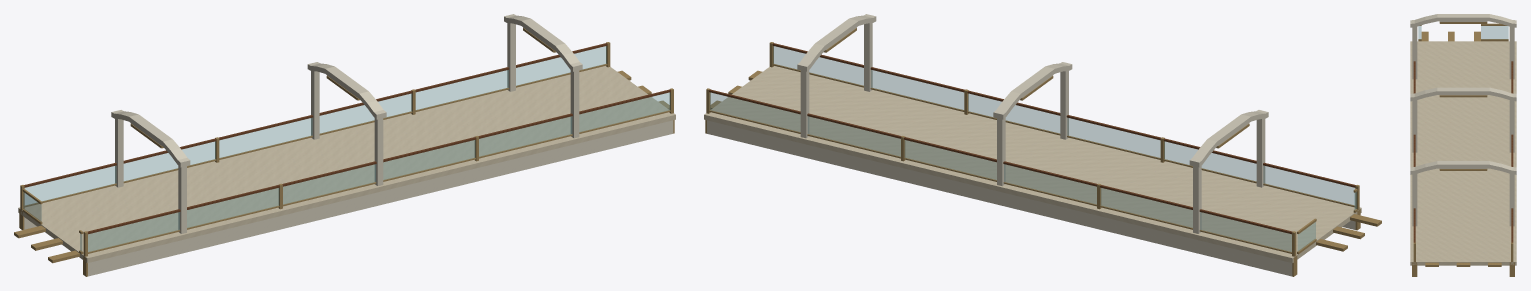
Rendered from AST-TRM-G4-034_D11_secondary_approach_r002.glb.
3 renders of one model, left to right at view 1: azimuth 30°, elevation 25°; view 2: azimuth 150°, elevation 25°; view 3: azimuth 270°, elevation 25°, orthographic. The views are drawn at different scales.
Visible parts, largest first — view 1: D11_SECONDARY_D12_MissingOnly_MainBridgeFloor, D11_SECONDARY_D12__TB_AFT_SIDE_BEAM, D11_SECONDARY_D12__TB_FORE_GLASS_2, D11_SECONDARY_D12__TB_AFT_GLASS_3, D11_SECONDARY_D12__TB_FORE_GLASS_4, D11_SECONDARY_D12__TB_AFT_GLASS_2, D11_SECONDARY_D12__TB_AFT_GLASS_4, D11_SECONDARY_D12__TB_AFT_GLASS_0, D11_SECONDARY_D12__TB_AFT_GLASS_1, D11_SECONDARY_D12__TB_AFT_GLASS_5, D11_SECONDARY_D12__TB_FORE_GLASS_0, D11_SECONDARY_D12__TB_FORE_GLASS_1 (+11 smaller); view 2: D11_SECONDARY_D12_MissingOnly_MainBridgeFloor, D11_SECONDARY_D12__TB_FORE_SIDE_BEAM, D11_SECONDARY_D12__TB_AFT_GLASS_2, D11_SECONDARY_D12__TB_AFT_GLASS_4, D11_SECONDARY_D12__TB_FORE_GLASS_4, D11_SECONDARY_D12__TB_FORE_GLASS_2, D11_SECONDARY_D12__TB_FORE_GLASS_3, D11_SECONDARY_D12__TB_FORE_GLASS_1, D11_SECONDARY_D12__TB_FORE_GLASS_0, D11_SECONDARY_D12__TB_AFT_GLASS_0, D11_SECONDARY_D12__TB_FORE_GLASS_5, D11_SECONDARY_D12__TB_AFT_GLASS_1 (+11 smaller); view 3: D11_SECONDARY_D12_MissingOnly_MainBridgeFloor, D11_SECONDARY_D12__TB_VAULT_1, D11_SECONDARY_D12__TB_VAULT_0, D11_SECONDARY_D12__TB_VAULT_2, D11_SECONDARY_ApertureReturn_SOUTH_Glass, D11_SECONDARY_D12__TB_AFT_RIB_PIER_0, D11_SECONDARY_D12__TB_AFT_RIB_PIER_2, D11_SECONDARY_D12__TB_FORE_RIB_PIER_0, D11_SECONDARY_D12__TB_FORE_RIB_PIER_2, D11_SECONDARY_D12__TB_AFT_RIB_PIER_1, D11_SECONDARY_D12__TB_FORE_RIB_PIER_1, D11_SECONDARY_D12__TB_COFF_1_R_SIDE (+12 smaller).
Part boxes in pixels (x1=…): D11_SECONDARY_D12_MissingOnly_MainBridgeFloor: x1=18, y1=66, x2=675, y2=262; D11_SECONDARY_D12__TB_AFT_SIDE_BEAM: x1=88, y1=120, x2=673, y2=276; D11_SECONDARY_D12__TB_FORE_GLASS_2: x1=219, y1=118, x2=312, y2=157; D11_SECONDARY_D12__TB_AFT_GLASS_3: x1=383, y1=140, x2=475, y2=179; D11_SECONDARY_D12__TB_FORE_GLASS_4: x1=416, y1=70, x2=508, y2=110; D11_SECONDARY_D12__TB_AFT_GLASS_2: x1=283, y1=164, x2=375, y2=204; D11_SECONDARY_D12__TB_AFT_GLASS_4: x1=479, y1=116, x2=571, y2=156; D11_SECONDARY_D12__TB_AFT_GLASS_0: x1=88, y1=212, x2=179, y2=251; D11_SECONDARY_D12__TB_AFT_GLASS_1: x1=187, y1=188, x2=278, y2=227; D11_SECONDARY_D12__TB_AFT_GLASS_5: x1=579, y1=92, x2=669, y2=131; D11_SECONDARY_D12__TB_FORE_GLASS_0: x1=25, y1=166, x2=116, y2=205; D11_SECONDARY_D12__TB_FORE_GLASS_1: x1=124, y1=141, x2=215, y2=181; D11_SECONDARY_D12_MissingOnly_MainBridgeFloor: x1=704, y1=66, x2=1361, y2=262; D11_SECONDARY_D12__TB_FORE_SIDE_BEAM: x1=707, y1=120, x2=1292, y2=276; D11_SECONDARY_D12__TB_AFT_GLASS_2: x1=1067, y1=118, x2=1160, y2=157; D11_SECONDARY_D12__TB_AFT_GLASS_4: x1=871, y1=70, x2=963, y2=110; D11_SECONDARY_D12__TB_FORE_GLASS_4: x1=808, y1=116, x2=900, y2=156; D11_SECONDARY_D12__TB_FORE_GLASS_2: x1=1004, y1=164, x2=1096, y2=204; D11_SECONDARY_D12__TB_FORE_GLASS_3: x1=904, y1=140, x2=996, y2=179; D11_SECONDARY_D12__TB_FORE_GLASS_1: x1=1101, y1=188, x2=1192, y2=227; D11_SECONDARY_D12__TB_FORE_GLASS_0: x1=1200, y1=212, x2=1291, y2=251; D11_SECONDARY_D12__TB_AFT_GLASS_0: x1=1263, y1=166, x2=1354, y2=205; D11_SECONDARY_D12__TB_FORE_GLASS_5: x1=710, y1=92, x2=800, y2=131; D11_SECONDARY_D12__TB_AFT_GLASS_1: x1=1164, y1=141, x2=1256, y2=181; D11_SECONDARY_D12_MissingOnly_MainBridgeFloor: x1=1410, y1=41, x2=1516, y2=265; D11_SECONDARY_D12__TB_VAULT_1: x1=1410, y1=87, x2=1516, y2=101; D11_SECONDARY_D12__TB_VAULT_0: x1=1410, y1=14, x2=1516, y2=27; D11_SECONDARY_D12__TB_VAULT_2: x1=1410, y1=161, x2=1516, y2=174; D11_SECONDARY_ApertureReturn_SOUTH_Glass: x1=1481, y1=26, x2=1508, y2=39; D11_SECONDARY_D12__TB_AFT_RIB_PIER_0: x1=1412, y1=27, x2=1417, y2=79; D11_SECONDARY_D12__TB_AFT_RIB_PIER_2: x1=1412, y1=174, x2=1417, y2=226; D11_SECONDARY_D12__TB_FORE_RIB_PIER_0: x1=1509, y1=27, x2=1514, y2=79; D11_SECONDARY_D12__TB_FORE_RIB_PIER_2: x1=1509, y1=174, x2=1514, y2=226; D11_SECONDARY_D12__TB_AFT_RIB_PIER_1: x1=1412, y1=100, x2=1417, y2=152; D11_SECONDARY_D12__TB_FORE_RIB_PIER_1: x1=1509, y1=100, x2=1514, y2=152; D11_SECONDARY_D12__TB_COFF_1_R_SIDE: x1=1440, y1=95, x2=1486, y2=97.
Size of the model in its own units: 31.7 by 4.9 by 6.1.
Materials: 6 (4 with a texture image).
